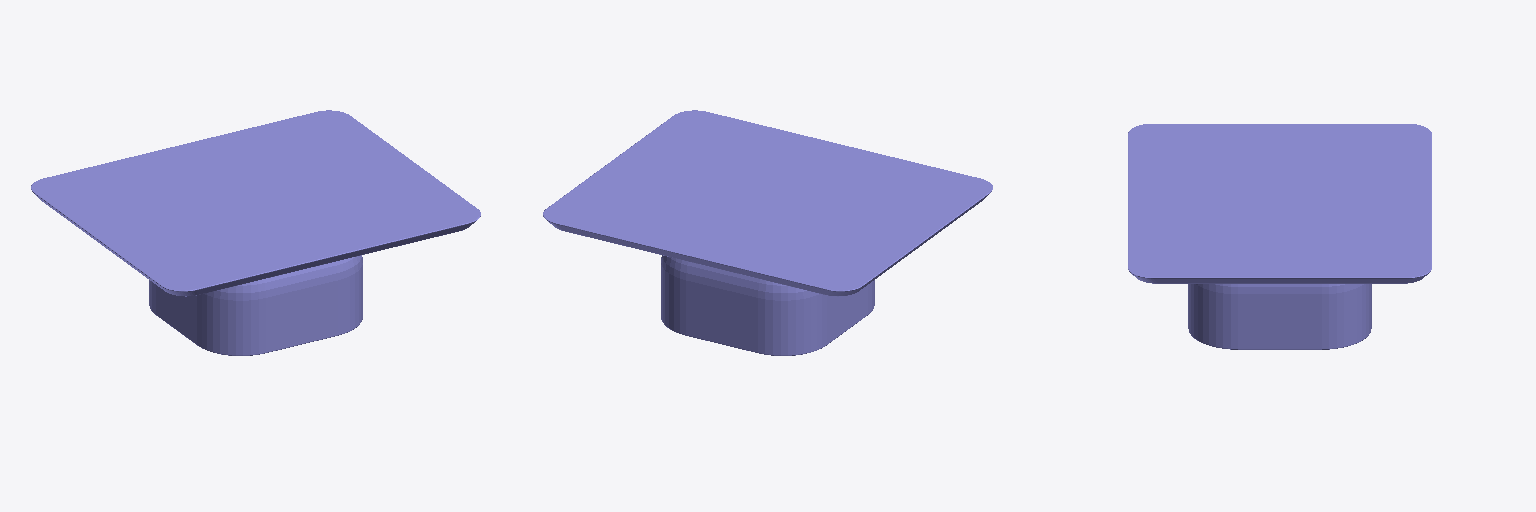
File: table2.obj
The picture shows the model from 3 angles: view 1: azimuth 30°, elevation 25°; view 2: azimuth 150°, elevation 25°; view 3: azimuth 270°, elevation 25°; orthographic projection.
Visible parts, largest first — view 1: Nikari_side_table; view 2: Nikari_side_table; view 3: Nikari_side_table.
Boxes of the visible parts, x1=… form: Nikari_side_table: x1=31, y1=110, x2=480, y2=355; Nikari_side_table: x1=543, y1=110, x2=992, y2=355; Nikari_side_table: x1=1128, y1=124, x2=1431, y2=349.
Bounding box in the file's own units: 1.23 × 0.4107 × 1.02.